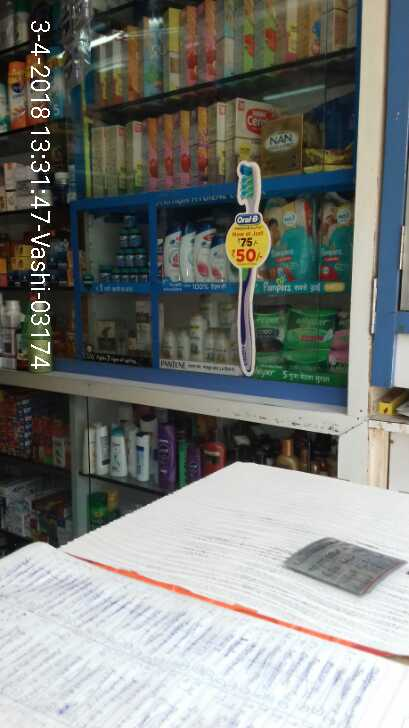vicks: (128, 229, 141, 248), (135, 249, 148, 267), (125, 208, 136, 226), (114, 249, 125, 267), (125, 250, 135, 267), (138, 268, 149, 282), (120, 230, 128, 248), (110, 269, 120, 283), (120, 268, 129, 283), (129, 268, 138, 282)
